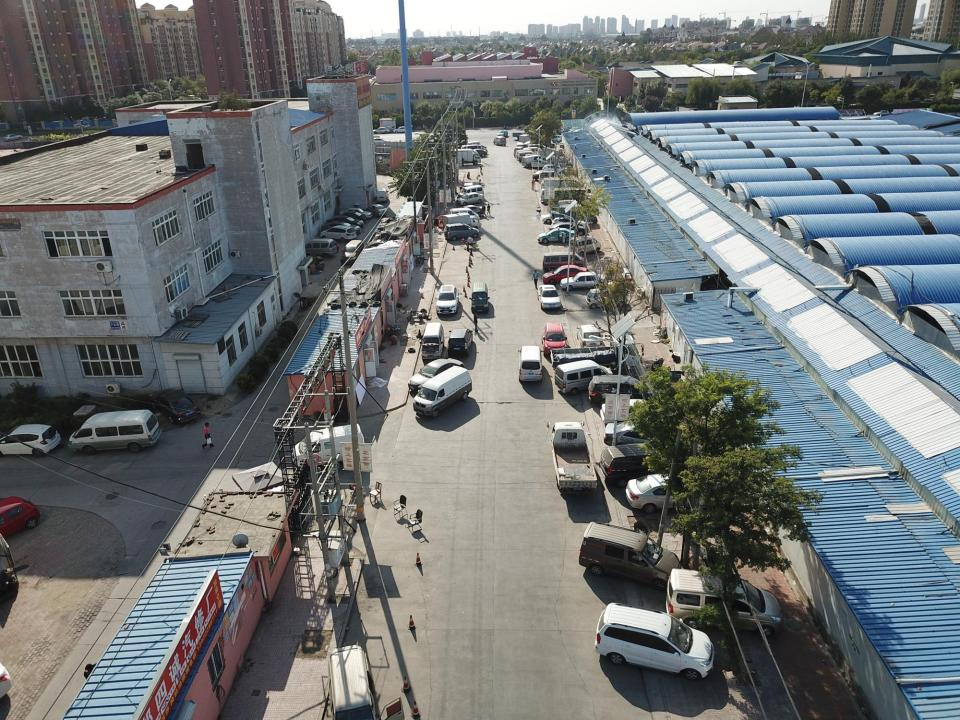car: (594, 604, 714, 680), (668, 568, 782, 637), (579, 521, 681, 591), (625, 473, 722, 513), (600, 444, 677, 486), (604, 419, 694, 452), (588, 375, 660, 408), (408, 358, 465, 395), (554, 360, 613, 394), (0, 424, 60, 457), (149, 387, 201, 423), (600, 399, 668, 424), (542, 322, 568, 356), (542, 265, 586, 285), (560, 272, 606, 290), (586, 288, 622, 308), (436, 284, 460, 314), (448, 328, 472, 357), (319, 225, 357, 243), (576, 324, 602, 350), (444, 224, 480, 241), (340, 240, 364, 265), (538, 284, 562, 308), (537, 228, 575, 243), (548, 222, 587, 236), (552, 216, 586, 229), (321, 222, 361, 232), (326, 216, 364, 226), (339, 208, 373, 219), (332, 211, 366, 222), (456, 192, 484, 205), (542, 212, 572, 224), (538, 171, 565, 184), (362, 204, 389, 217), (456, 205, 484, 216), (542, 164, 568, 174), (533, 170, 556, 180), (467, 149, 487, 157), (5, 133, 22, 142), (371, 137, 390, 144), (552, 135, 568, 143), (463, 182, 473, 194), (393, 126, 410, 133), (372, 127, 390, 133), (496, 129, 508, 137)
truck: (547, 421, 599, 490), (549, 335, 639, 373), (552, 206, 597, 224), (442, 212, 482, 231), (540, 186, 586, 202), (448, 148, 482, 165), (540, 177, 574, 191)
van: (328, 645, 405, 719), (67, 410, 160, 454), (291, 424, 364, 470), (413, 365, 472, 418), (517, 346, 545, 382), (542, 252, 586, 273), (420, 322, 444, 359), (300, 238, 337, 258), (569, 235, 602, 256), (470, 282, 490, 312), (448, 208, 480, 223), (456, 185, 484, 200), (558, 200, 582, 211), (465, 145, 487, 154), (377, 188, 389, 203), (466, 141, 480, 150), (493, 136, 506, 145)
